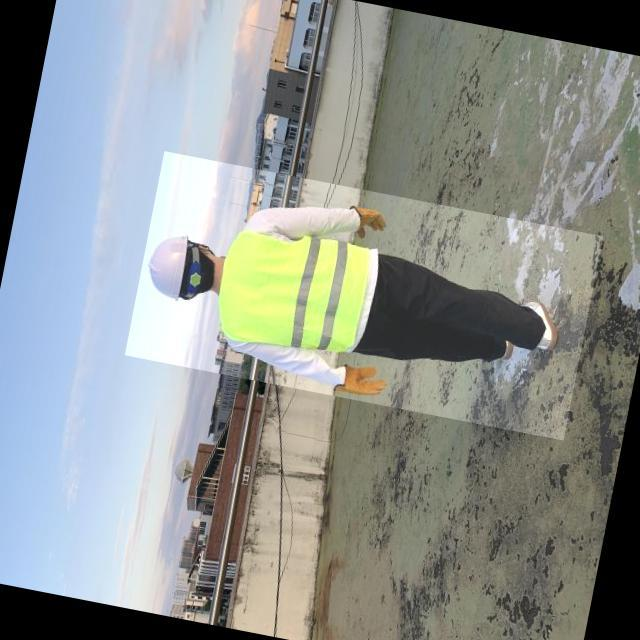Helmet: (140, 226, 196, 306)
Person: (128, 204, 585, 400)
Safety Boot: (518, 293, 573, 341)
Safety Vest: (211, 217, 380, 367)
